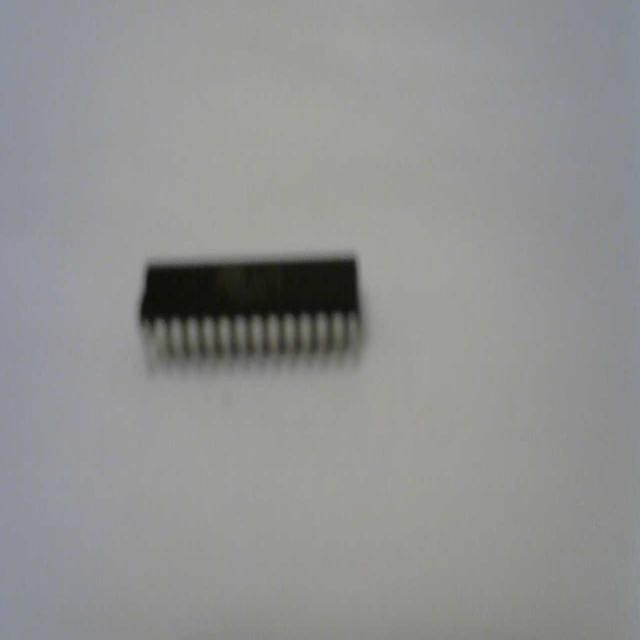atmega: (135, 249, 365, 375)
